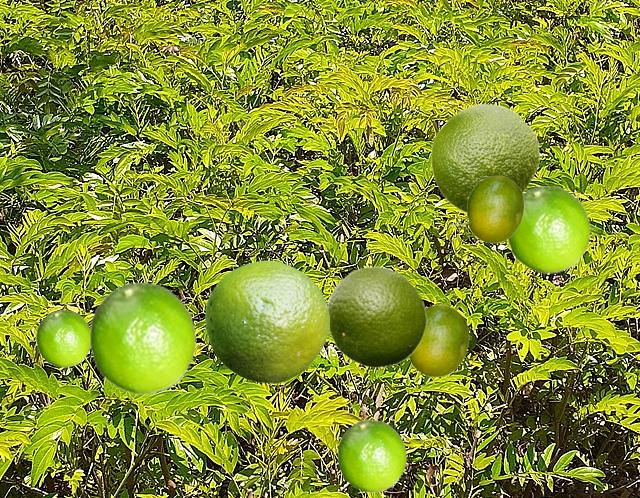calamansi: (205, 260, 328, 382), (430, 103, 539, 213), (89, 281, 196, 393), (327, 265, 426, 367), (506, 185, 590, 272), (447, 175, 523, 242), (337, 419, 406, 491), (408, 304, 468, 376), (36, 309, 89, 366)
